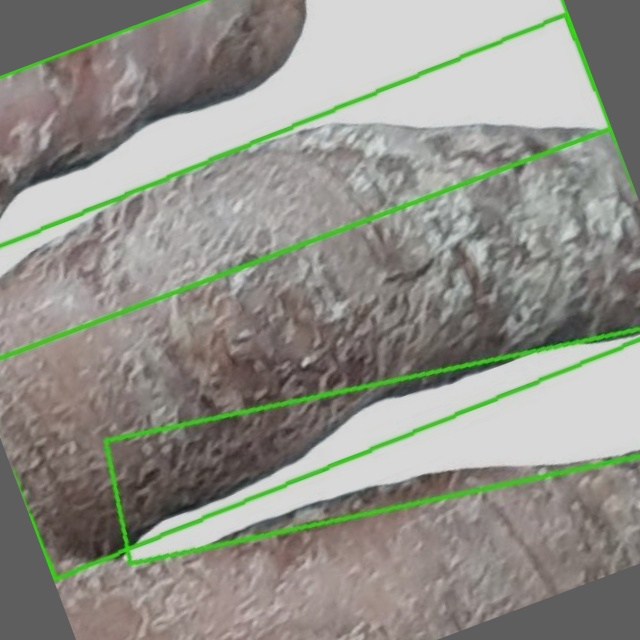Eczema: (0, 15, 639, 579), (0, 0, 611, 357), (104, 331, 639, 563)
